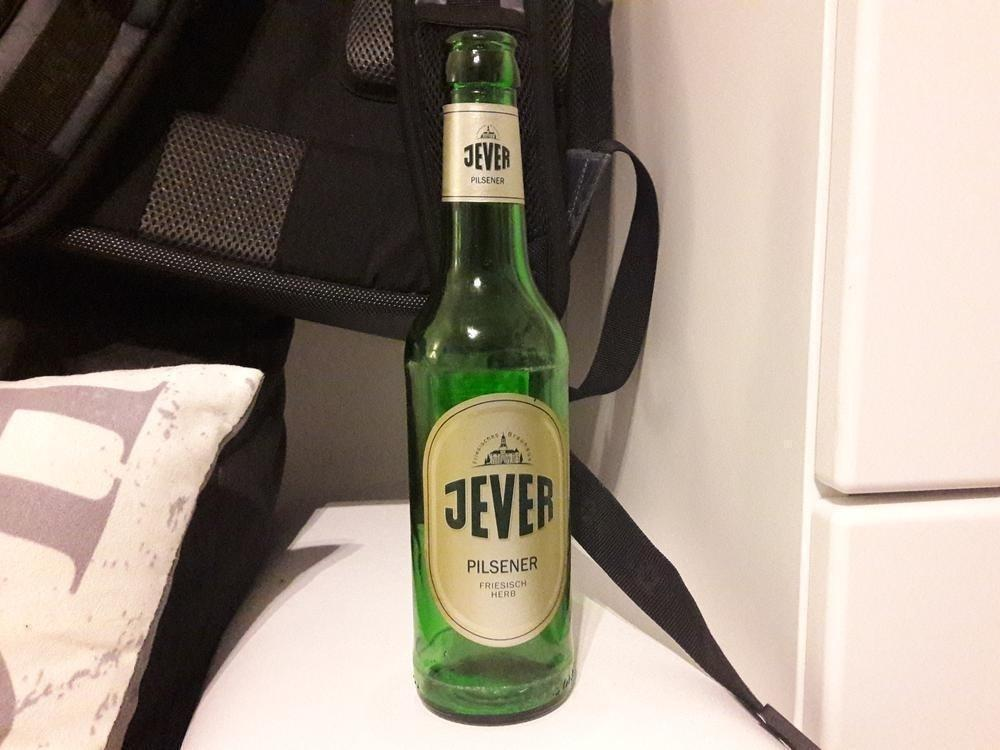bottle-glass: (401, 29, 576, 726)
